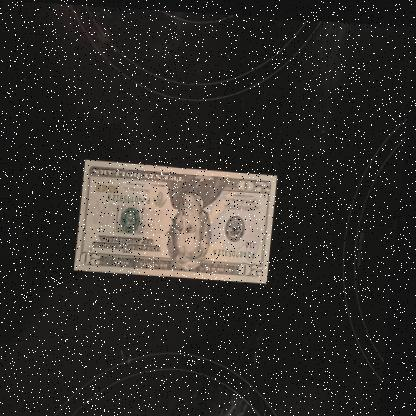dollar_front: (78, 158, 280, 280)
